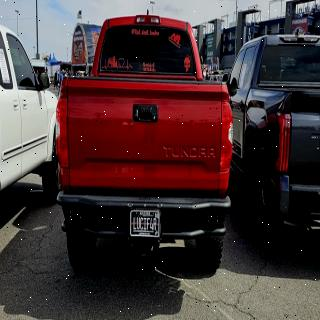license: (131, 211, 161, 238)
